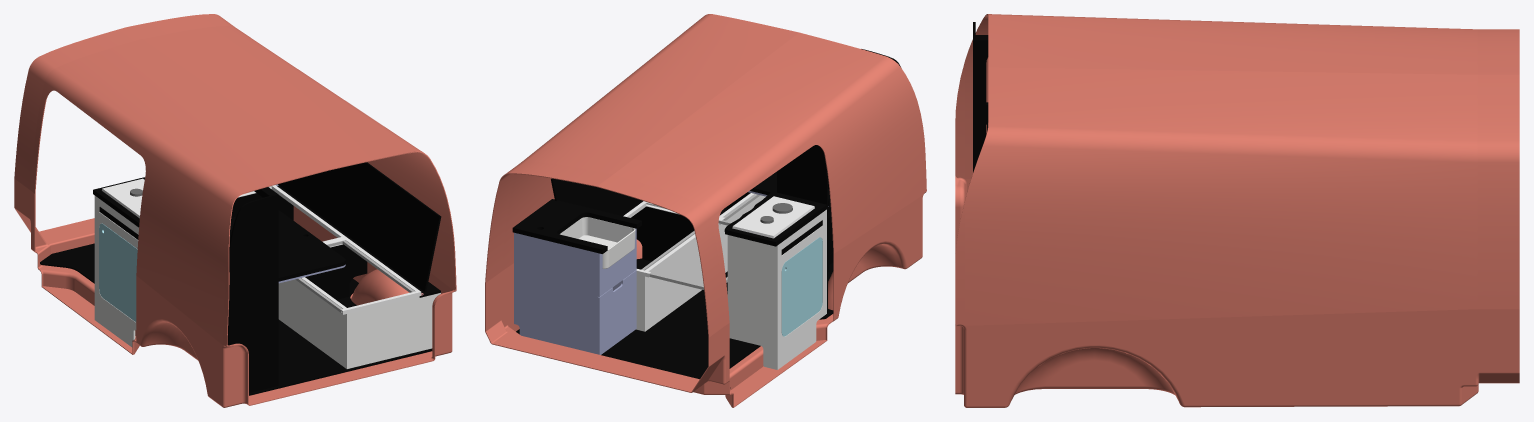
3 renders of one model, left to right at view 1: azimuth 30°, elevation 25°; view 2: azimuth 150°, elevation 25°; view 3: azimuth 270°, elevation 25°, orthographic. The views are drawn at different scales.
Visible parts, largest first — view 1: Body1, Body11, Body8:2, Body1:12, Body1:1, Body4:6, Body1:4, Body5:5, Body6, Body2:8, Body3, Body10 (+6 smaller); view 2: Body1, Body4:1, Body6, Body1:1, Body4:6, Body1:4, Body2:2, Body1:7, Body9:2, Body2:8, Body1:5, Body11 (+4 smaller); view 3: Body1, Body27.
Part boxes in pixels (x1,y1,x2,y2): Body1: (14,14,456,407); Body11: (278,162,441,291); Body8:2: (227,194,276,392); Body1:12: (348,293,440,368); Body1:1: (40,243,432,395); Body4:6: (278,279,348,368); Body1:4: (99,223,137,322); Body5:5: (229,210,345,279); Body6: (94,195,138,347); Body2:8: (305,244,367,299); Body3: (102,178,144,218); Body10: (277,185,440,297); Body1: (485,14,926,407); Body4:1: (514,232,597,354); Body6: (727,209,826,369); Body1:1: (516,207,833,388); Body4:6: (643,195,765,331); Body1:4: (781,237,822,336); Body2:2: (512,199,641,253); Body1:7: (597,270,636,354); Body9:2: (778,145,827,313); Body2:8: (631,206,694,261); Body1:5: (560,217,635,268); Body11: (551,178,641,215); Body1: (955,14,1519,407); Body27: (973,39,988,172).
Bounding box in the file's own units: 161 × 147 × 261.
